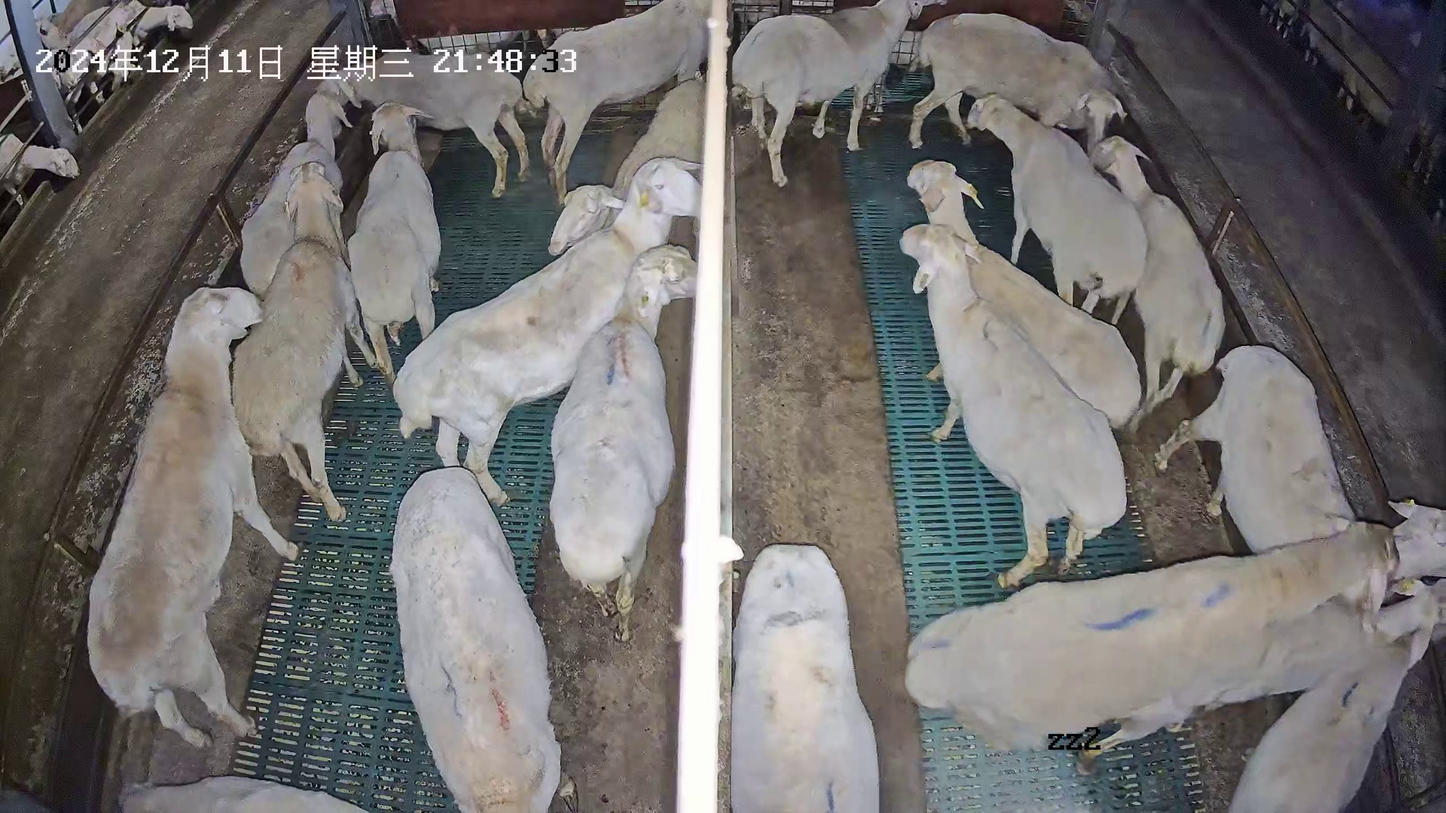Smounting: (903, 509, 1446, 778)
mounted: (1078, 572, 1446, 775)
